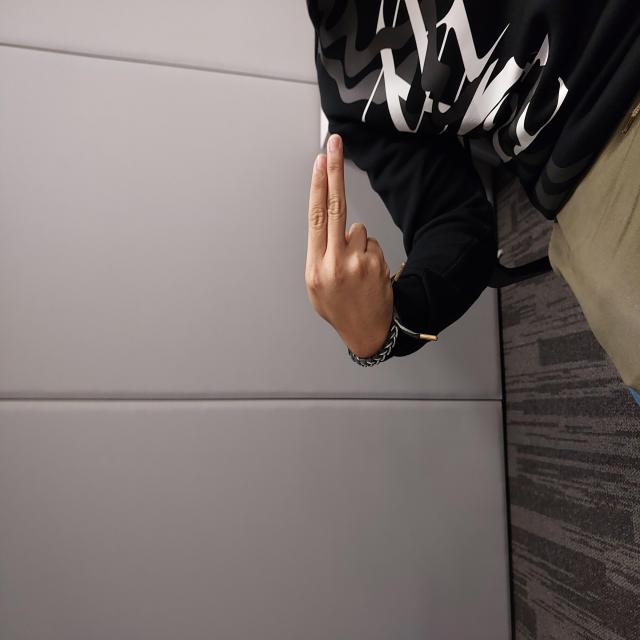H: (274, 304, 508, 396)
